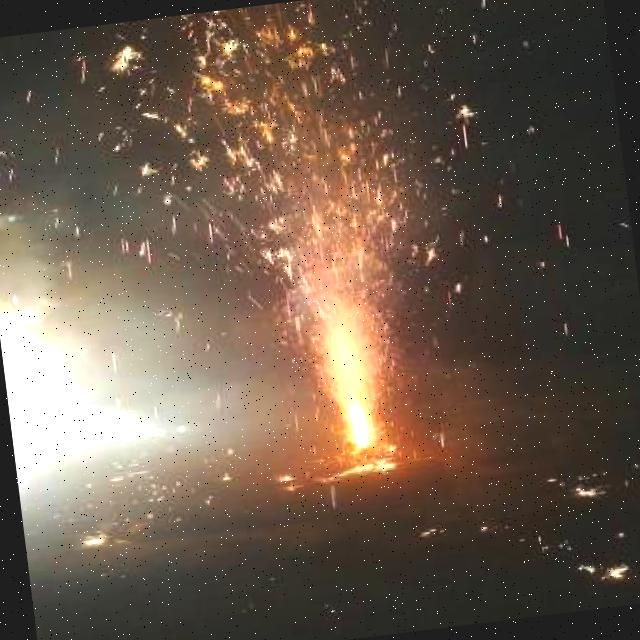fire: (274, 151, 409, 457), (300, 311, 415, 461)
